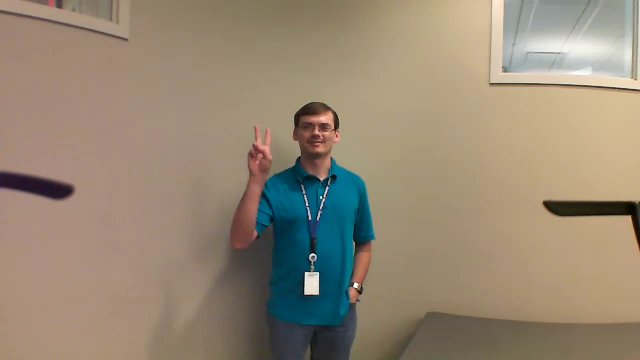peace: (229, 113, 284, 183)
